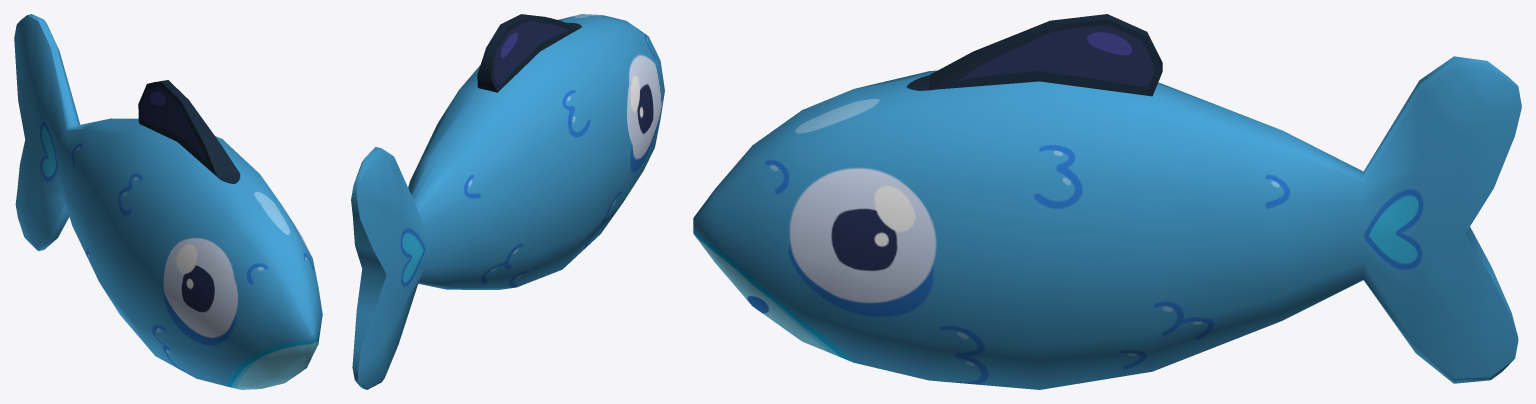
Rendered from AdnanFish.fbx.
The picture shows the model from 3 angles, left to right: view 1: azimuth 30°, elevation 25°; view 2: azimuth 150°, elevation 25°; view 3: azimuth 270°, elevation 25°; orthographic projection. The views are drawn at different scales.
Visible parts, largest first — view 1: AdnanVis; view 2: AdnanVis; view 3: AdnanVis.
Part boxes in pixels (x1,y1,x2,y2): AdnanVis: [14, 14, 322, 389]; AdnanVis: [351, 14, 664, 389]; AdnanVis: [693, 14, 1521, 389].
Size of the model in its own units: 12.48 by 23.23 by 47.73.
1 material, 1 textured.
